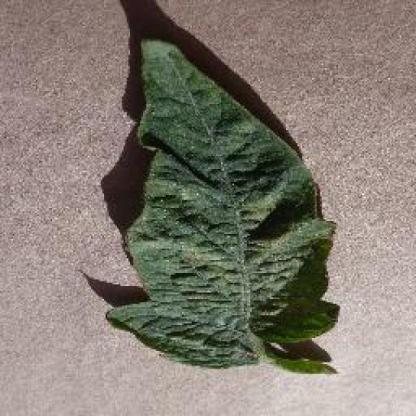Tomato_Spider_Mites: (108, 40, 338, 367)
